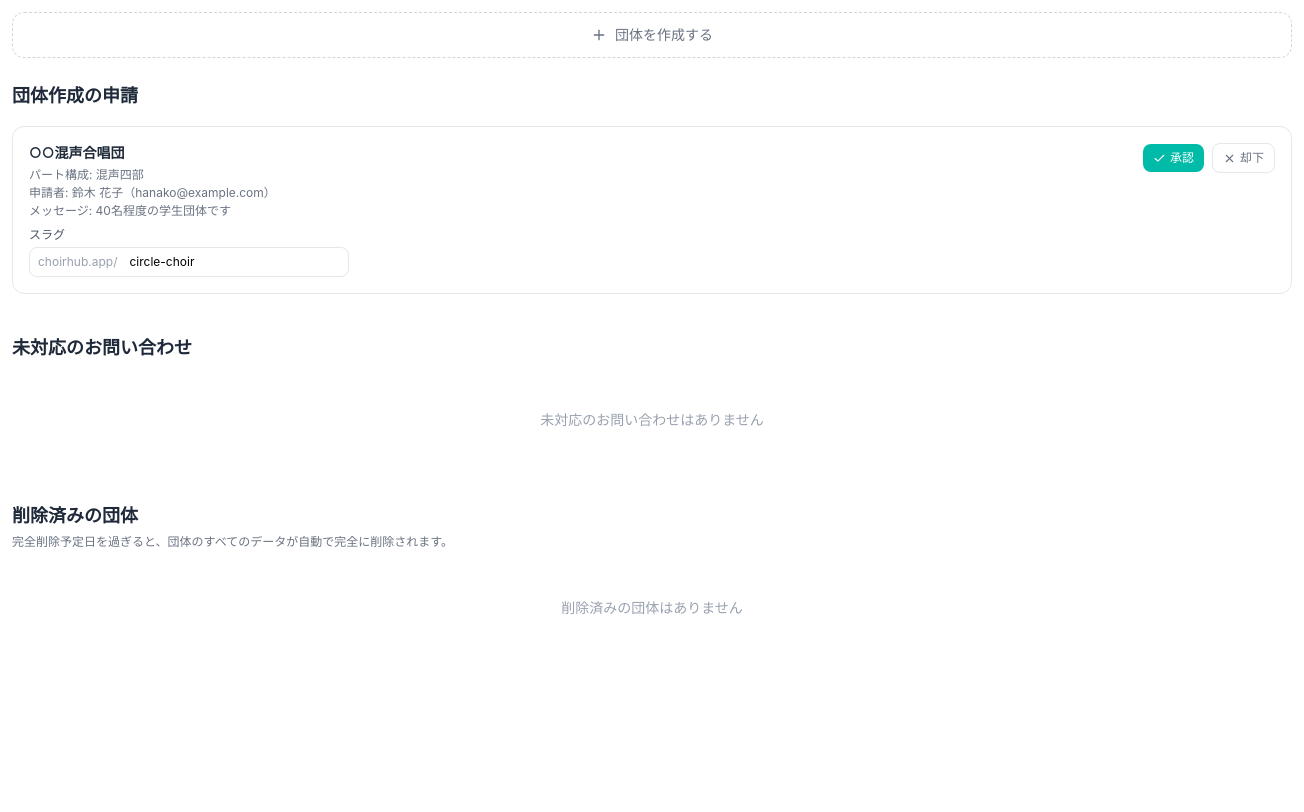
Test: AdminPage（承認・却下） › 承認が409（スラグ重複）で失敗した場合はAPIの理由を読み上げる
Expected: the text "○○混声合唱団" is shown, [29, 144, 125, 161]
Click the button labelled "承認" at (1174,158), box [1143, 144, 1204, 172]
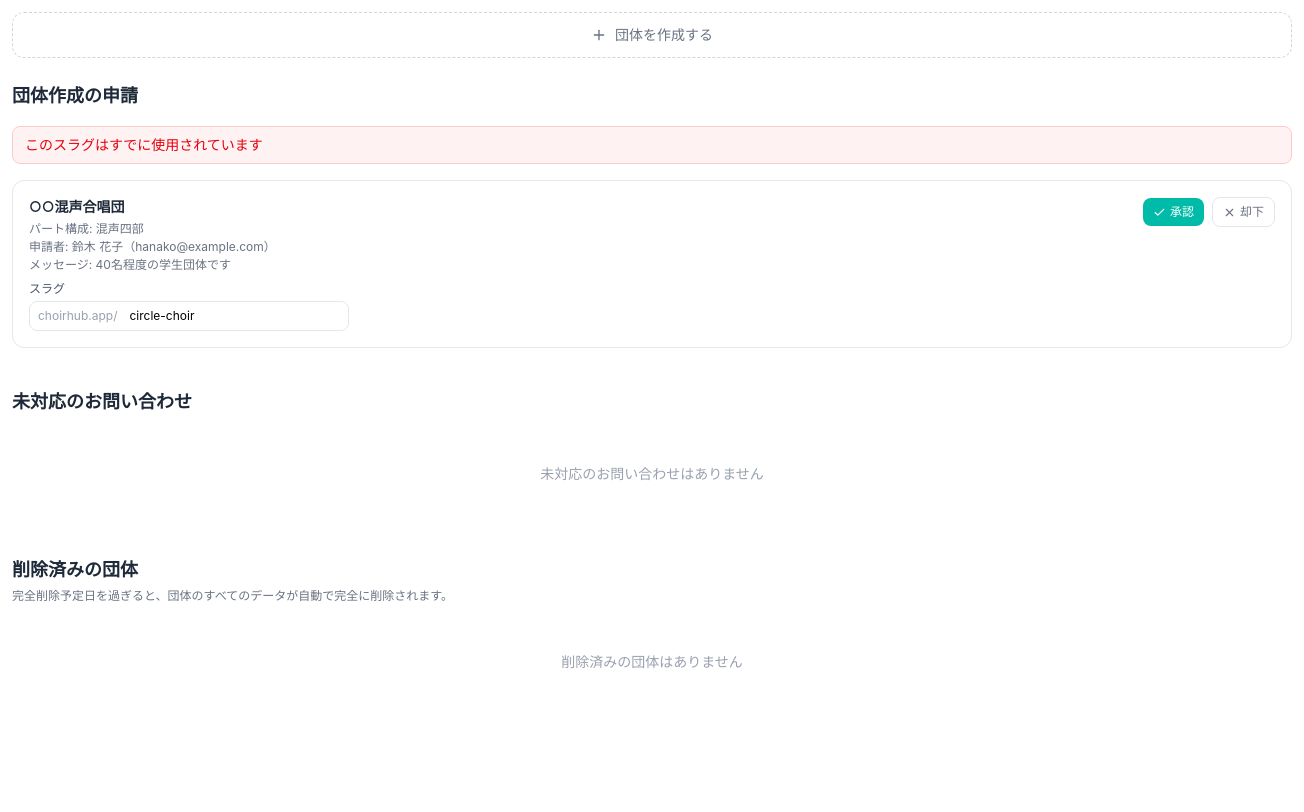
Now the message reads "このスラグはすでに使用されています", box [25, 136, 263, 153]
